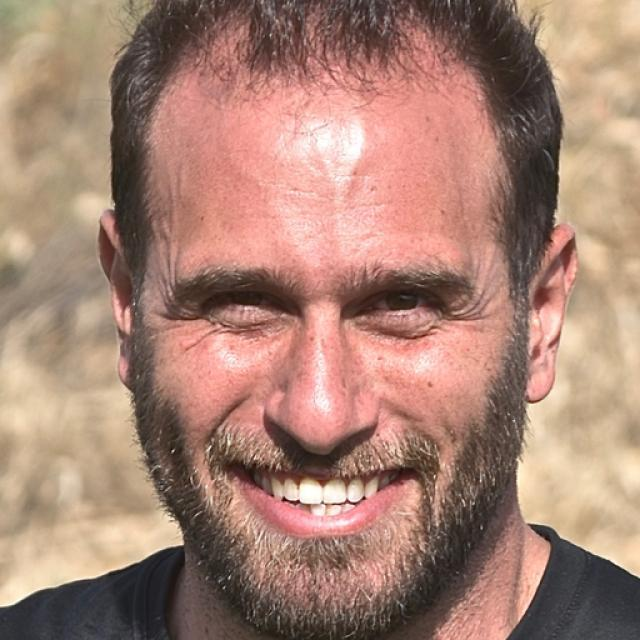happy: (132, 68, 532, 630)
